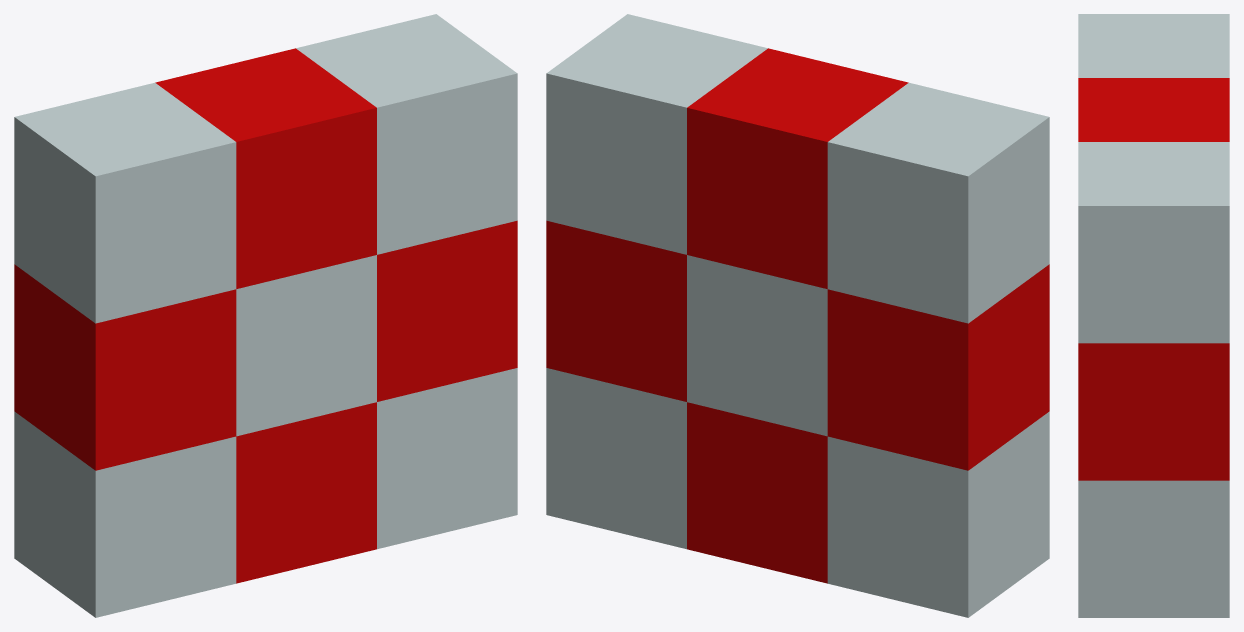
The picture shows the model from 3 angles, left to right: view 1: azimuth 30°, elevation 25°; view 2: azimuth 150°, elevation 25°; view 3: azimuth 270°, elevation 25°; orthographic projection. The views are drawn at different scales.
Parts seen in each view (by area): view 1: 112.1; view 2: 112.1; view 3: 112.1.
Part boxes in pixels (x1,y1,x2,y2): 112.1: [14, 14, 517, 617]; 112.1: [546, 14, 1049, 617]; 112.1: [1078, 14, 1229, 617].
Size of the model in its own units: 30 by 30 by 10.
Materials: 1 (1 with a texture image).
